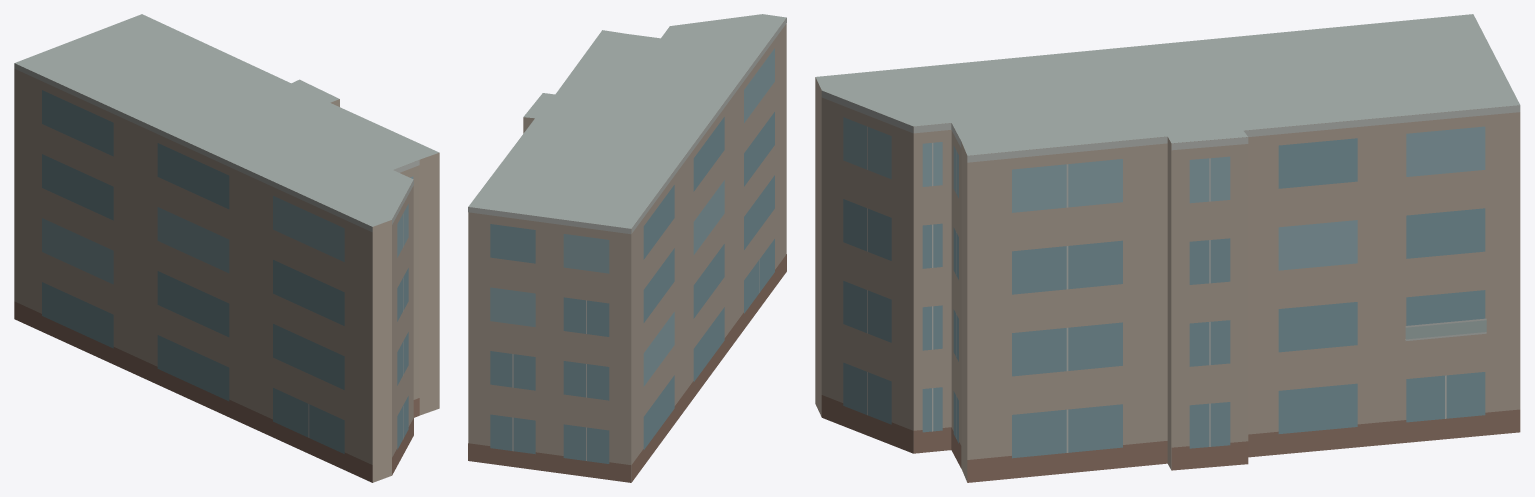
File: survey-upis-32775444.glb
3 views of the same model, side by side, from view 1: azimuth 30°, elevation 25°; view 2: azimuth 150°, elevation 25°; view 3: azimuth 270°, elevation 25° (orthographic). The views are drawn at different scales.
Visible parts, largest first — view 1: survey-upis-32775444.tmp; view 2: survey-upis-32775444.tmp; view 3: survey-upis-32775444.tmp.
Boxes of the visible parts, <box> form: survey-upis-32775444.tmp: <box>14,14,439,482</box>; survey-upis-32775444.tmp: <box>468,14,786,482</box>; survey-upis-32775444.tmp: <box>815,14,1520,482</box>.
Bounding box in the file's own units: 10.65 × 11.45 × 22.37.
